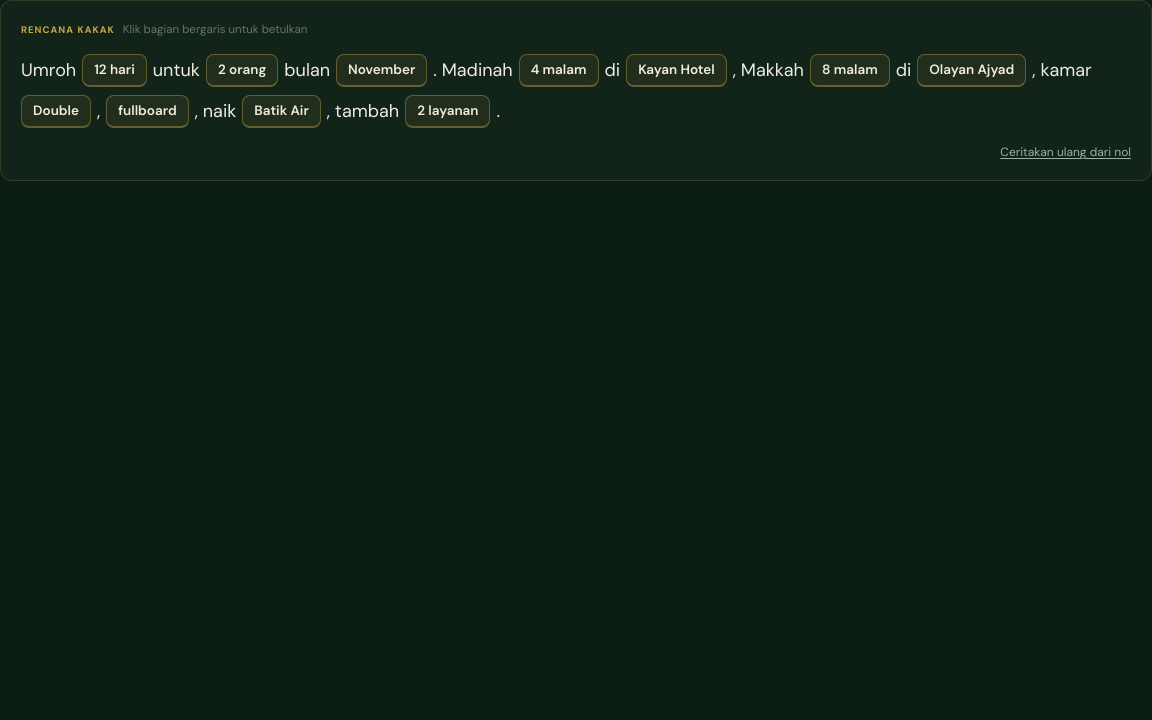
Scenario: SentenceCard › keeps the services editor open across multiple toggles, closing only via Selesai
The width and height of the screenshot is (1152, 720).
Click the button with aria-label "Layanan tambahan: 2 dipilih, klik untuk ubah" at (448, 112), box [405,95,490,128]
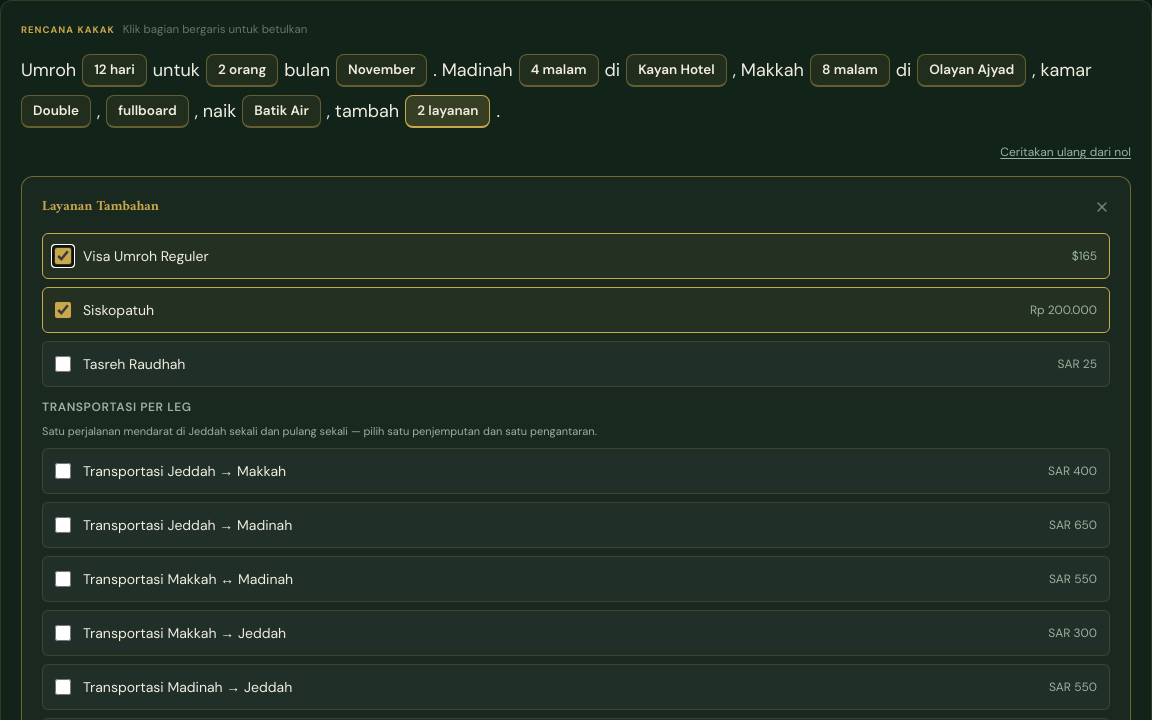
Now the heading "Layanan Tambahan" is shown, box [42,197,159,217]
Click the text "Tasreh Raudhah" at (134, 364), box [83,355,185,373]
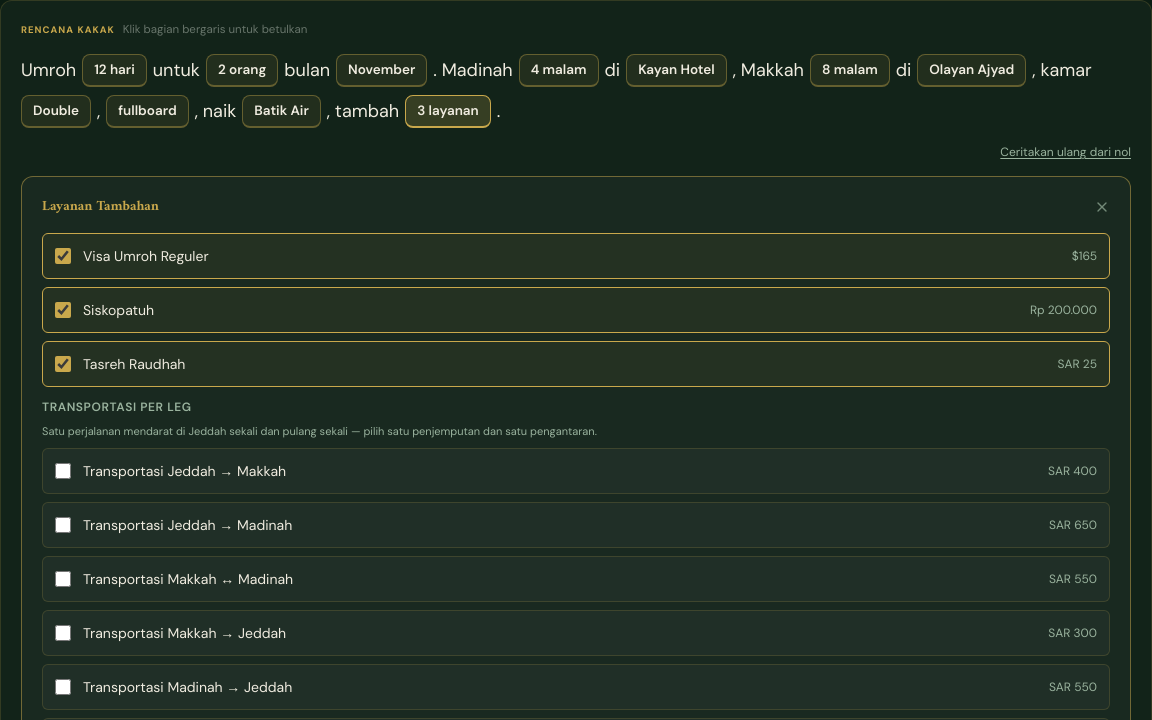
Now the heading "Layanan Tambahan" is shown, box [42,197,159,217]
Click the text "Transportasi Jeddah → Makkah" at (185, 471), box [83,462,286,480]
(page scrolled)
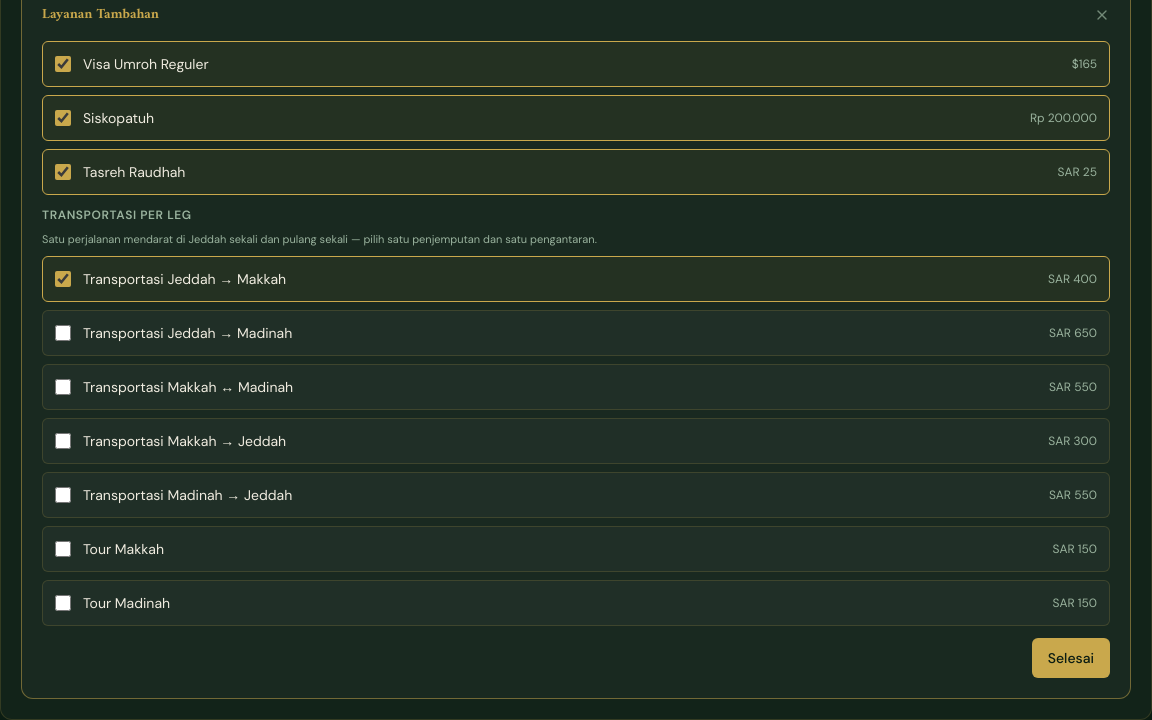
Now the heading "Layanan Tambahan" is shown, box [42,5,159,25]
Click the button "Selesai" at (1071, 658), box [1032,638,1110,678]
(page scrolled)
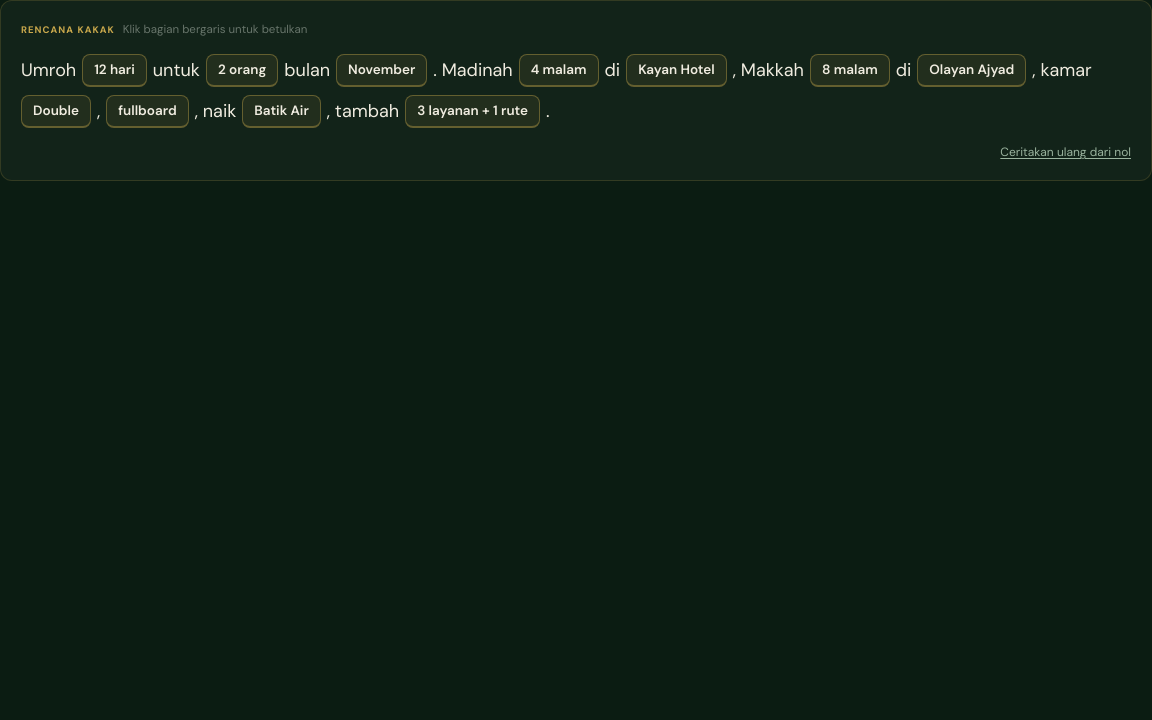
Now the heading "Layanan Tambahan" is gone
